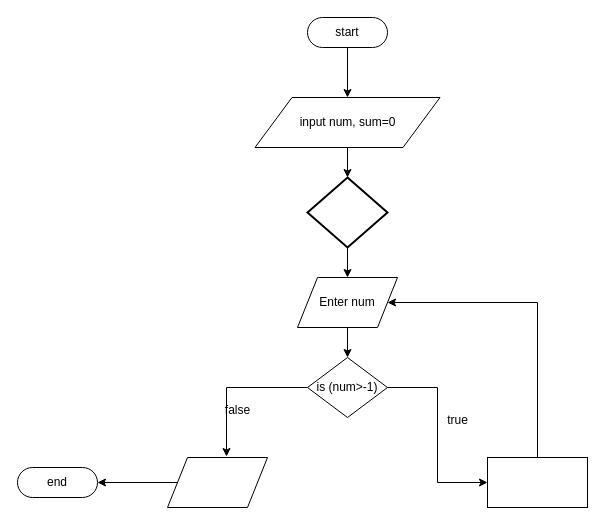
The diagram is 605 pixels wide and 525 high, and some of its shapes have lost their labels. The shapes that lost their labels are listed below. From the top down, each one's centre as x and y in pixels, then its label:
At point (347, 212): "is true".
At point (217, 482): "print sum".
At point (537, 482): "sum+=sum".
